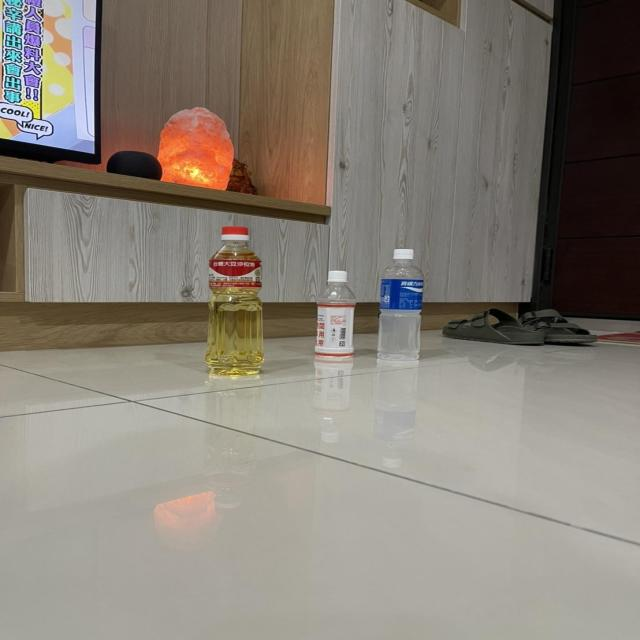bottle: (198, 213, 273, 385), (364, 244, 430, 376), (315, 263, 357, 371)
